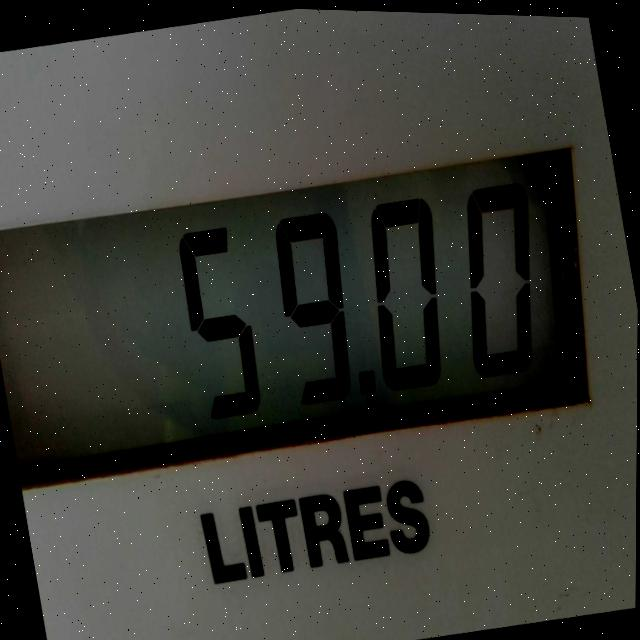.: (354, 357, 387, 416)
0: (437, 178, 573, 420), (351, 184, 466, 398)
5: (161, 211, 278, 440)
9: (249, 192, 365, 408)
